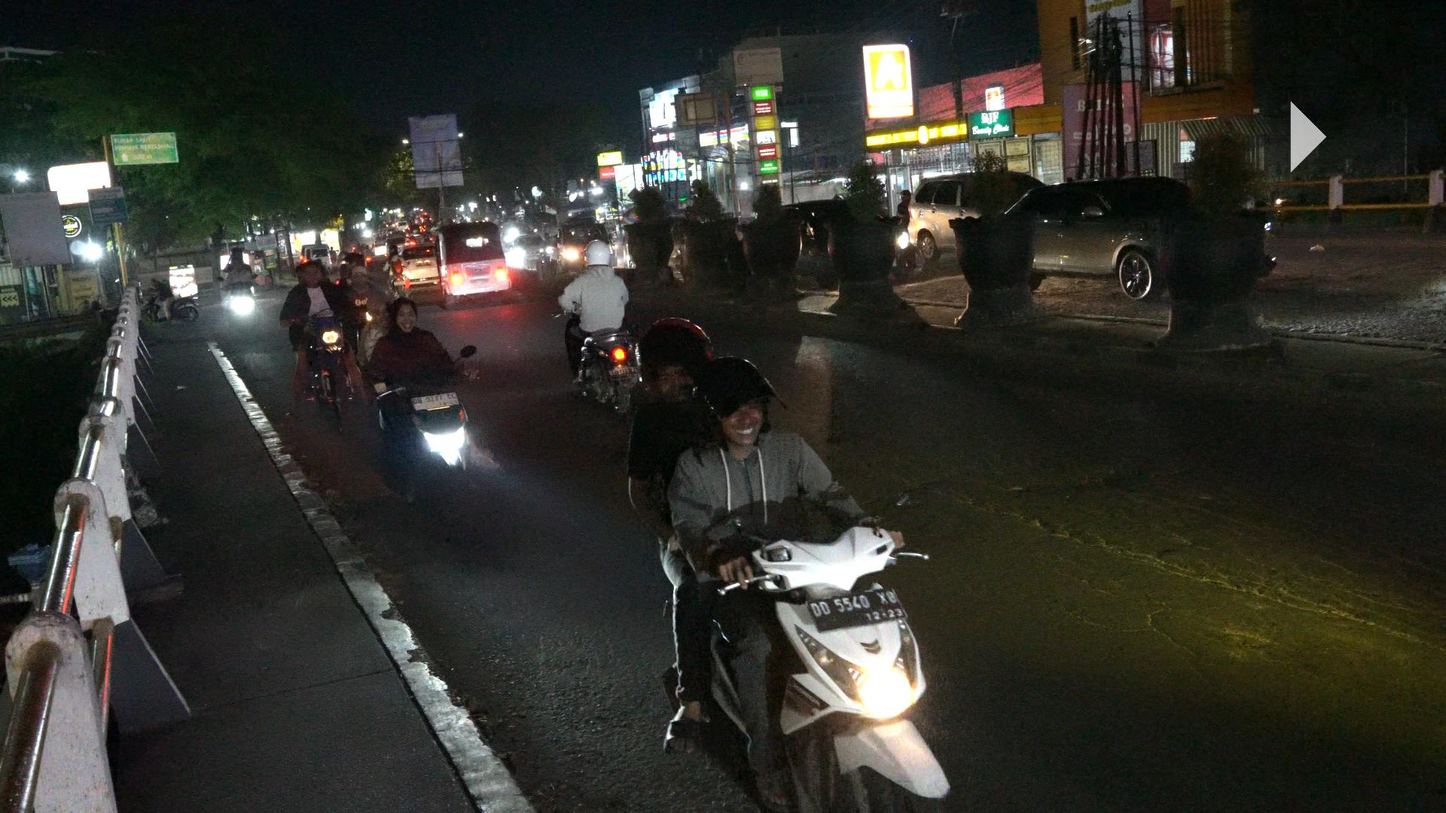number-plate: (805, 588, 909, 626), (407, 394, 464, 412)
